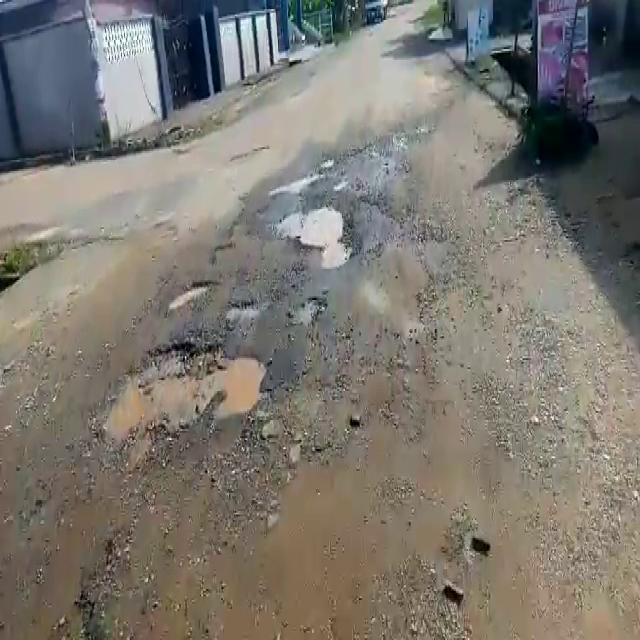Pothole: (90, 346, 267, 446), (269, 199, 353, 263), (165, 277, 214, 315), (226, 300, 260, 326)
